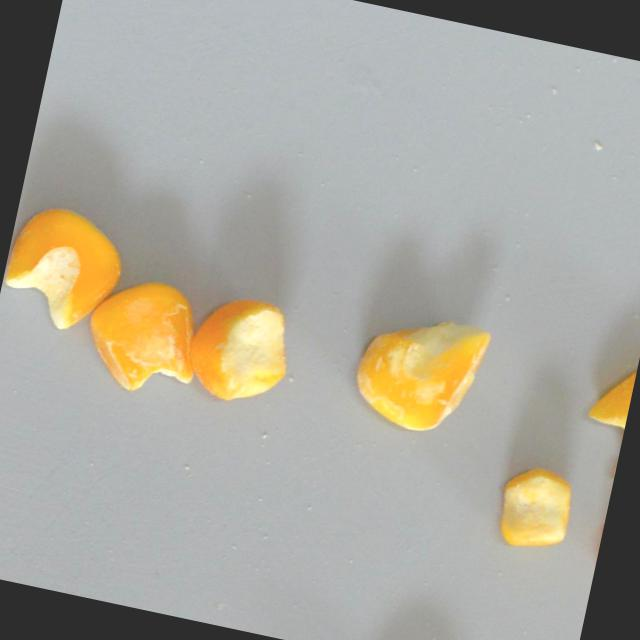dañado: (341, 297, 502, 448), (73, 265, 213, 407), (0, 193, 132, 340), (177, 285, 302, 416), (570, 339, 640, 479)
punto_negro: (491, 459, 581, 557)
